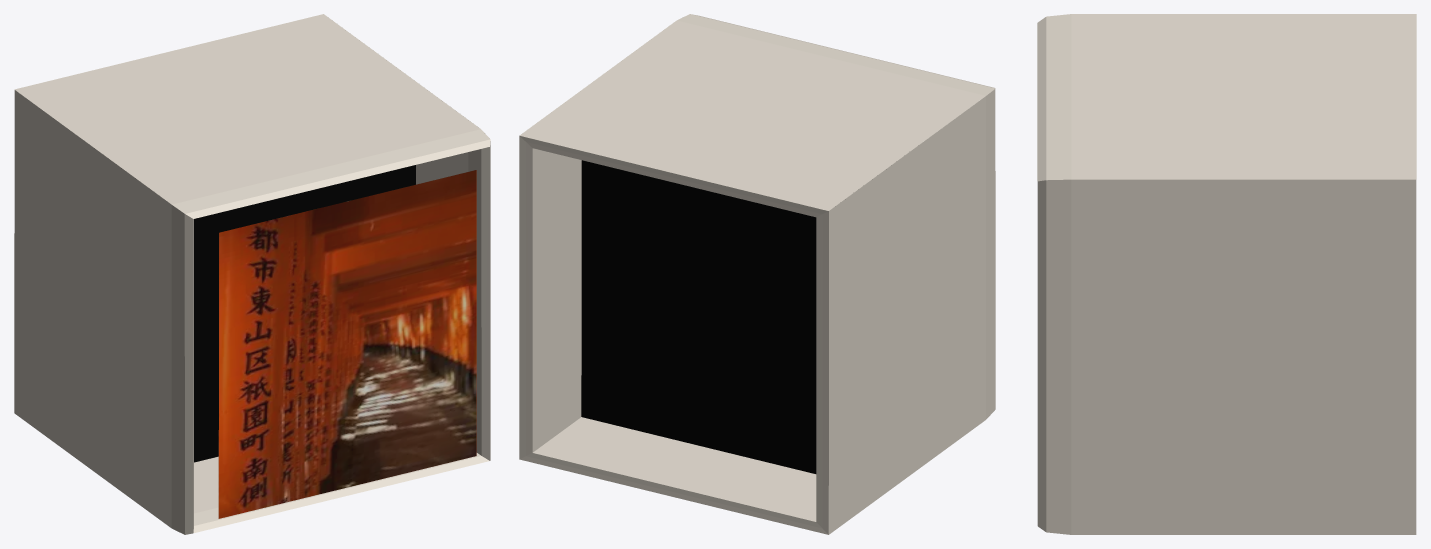
File: sh-contrib-inari-frame.glb
3 views of the same model, side by side, from view 1: azimuth 30°, elevation 25°; view 2: azimuth 150°, elevation 25°; view 3: azimuth 270°, elevation 25° (orthographic). The views are drawn at different scales.
Visible parts, largest first — view 1: MetalFrame_Cylinder_Aluminium.006, Photo_Cube_Material_Inari.jpg, Frame_Black_Material.007; view 2: MetalFrame_Cylinder_Aluminium.006, Frame_Black_Material.007; view 3: MetalFrame_Cylinder_Aluminium.006.
Boxes of the visible parts, <box> form: MetalFrame_Cylinder_Aluminium.006: <box>14,14,490,534</box>; Photo_Cube_Material_Inari.jpg: <box>218,170,476,518</box>; Frame_Black_Material.007: <box>194,165,415,462</box>; MetalFrame_Cylinder_Aluminium.006: <box>519,14,995,534</box>; Frame_Black_Material.007: <box>581,160,816,473</box>; MetalFrame_Cylinder_Aluminium.006: <box>1037,14,1416,534</box>.
Size of the model in its own units: 1 by 1 by 1.
Materials: 3 (1 with a texture image).
